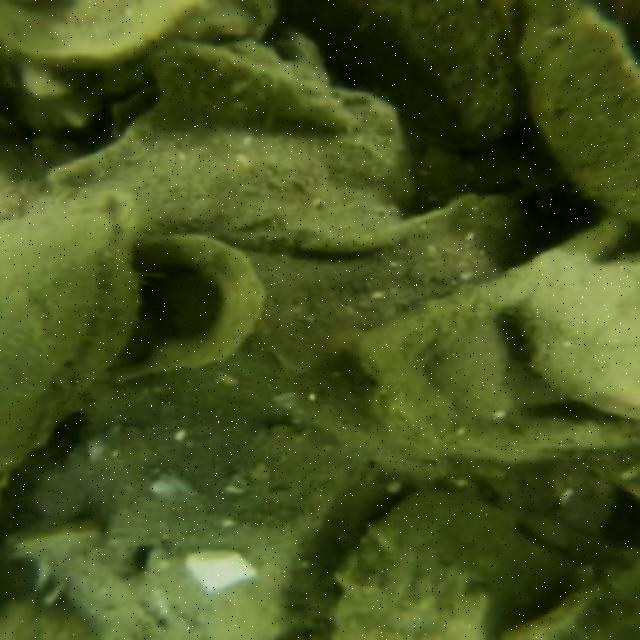Oyster-Closed: (36, 398, 349, 638), (360, 214, 638, 468), (48, 94, 409, 250), (264, 190, 536, 366), (4, 198, 139, 472), (286, 1, 517, 144), (332, 494, 560, 638), (95, 233, 268, 384), (521, 260, 638, 420), (155, 42, 356, 130), (139, 526, 295, 638), (15, 1, 279, 60), (500, 556, 637, 638)
Oyster-Open: (519, 0, 638, 235)
